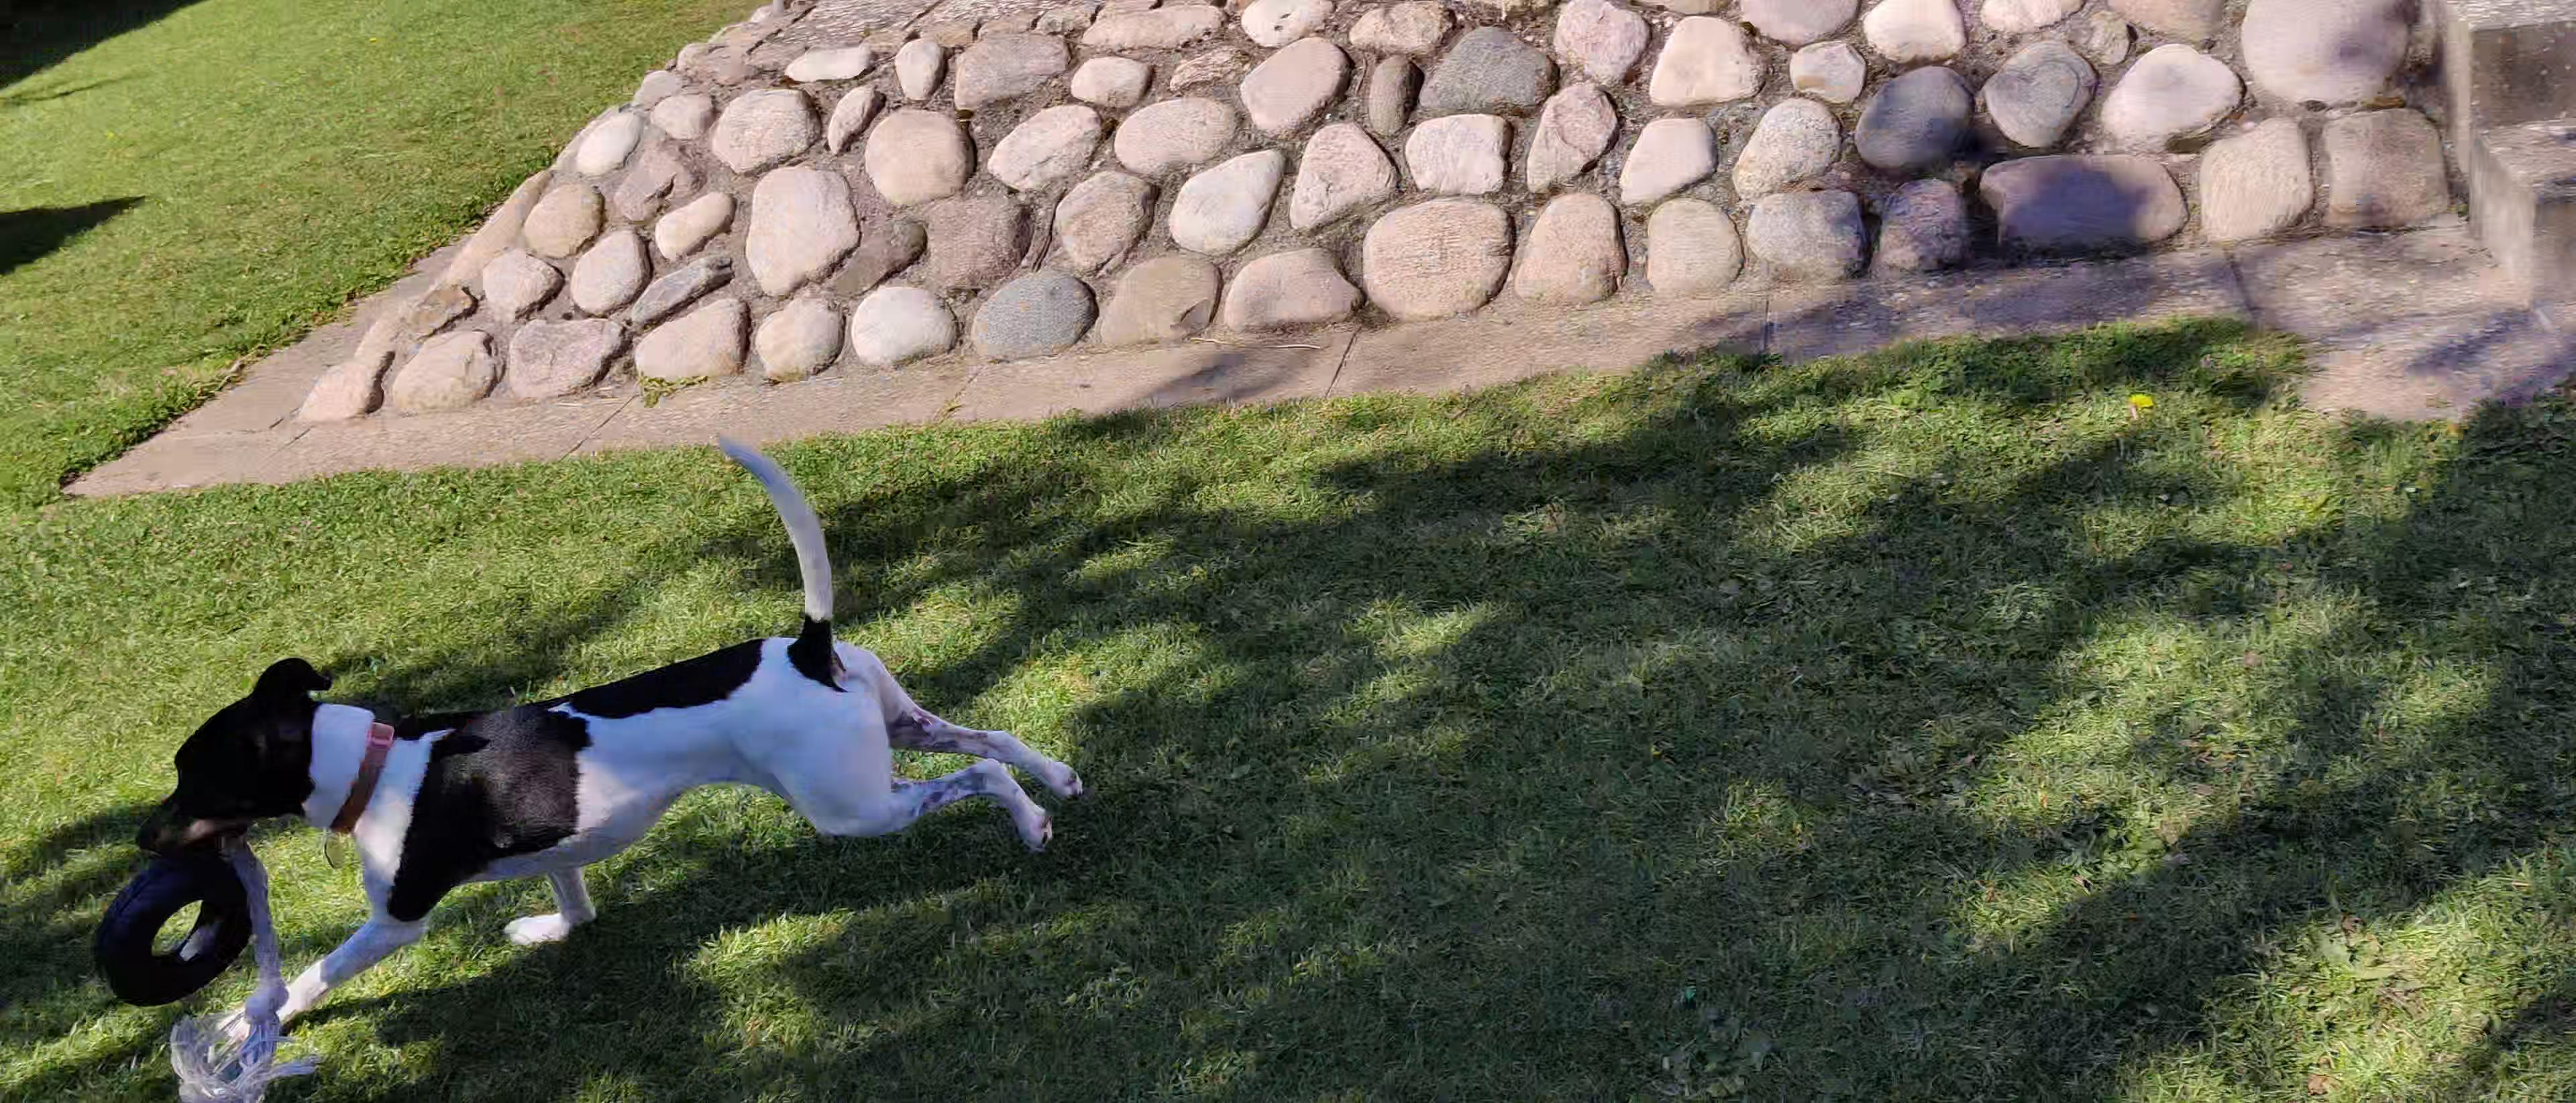Dog: (128, 424, 1094, 1054)
